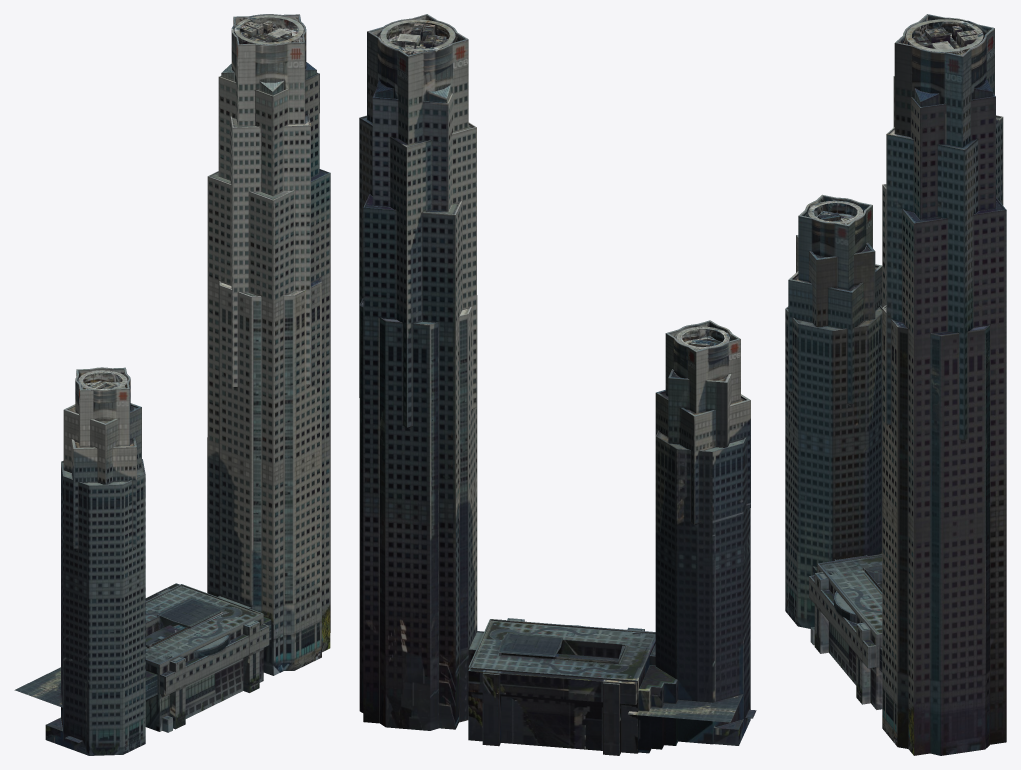
3 views of the same model, side by side, from view 1: azimuth 30°, elevation 25°; view 2: azimuth 150°, elevation 25°; view 3: azimuth 270°, elevation 25° (orthographic). The views are drawn at different scales.
Parts seen in each view (by area): view 1: 5_0.glb; view 2: 5_0.glb; view 3: 5_0.glb.
Part boxes in pixels (bbox=[...]): 5_0.glb: bbox=[14, 14, 330, 755]; 5_0.glb: bbox=[359, 14, 756, 755]; 5_0.glb: bbox=[785, 14, 1006, 755].
Bounding box in the file's own units: 151 × 280 × 80.83.
Materials: 1 (1 with a texture image).
